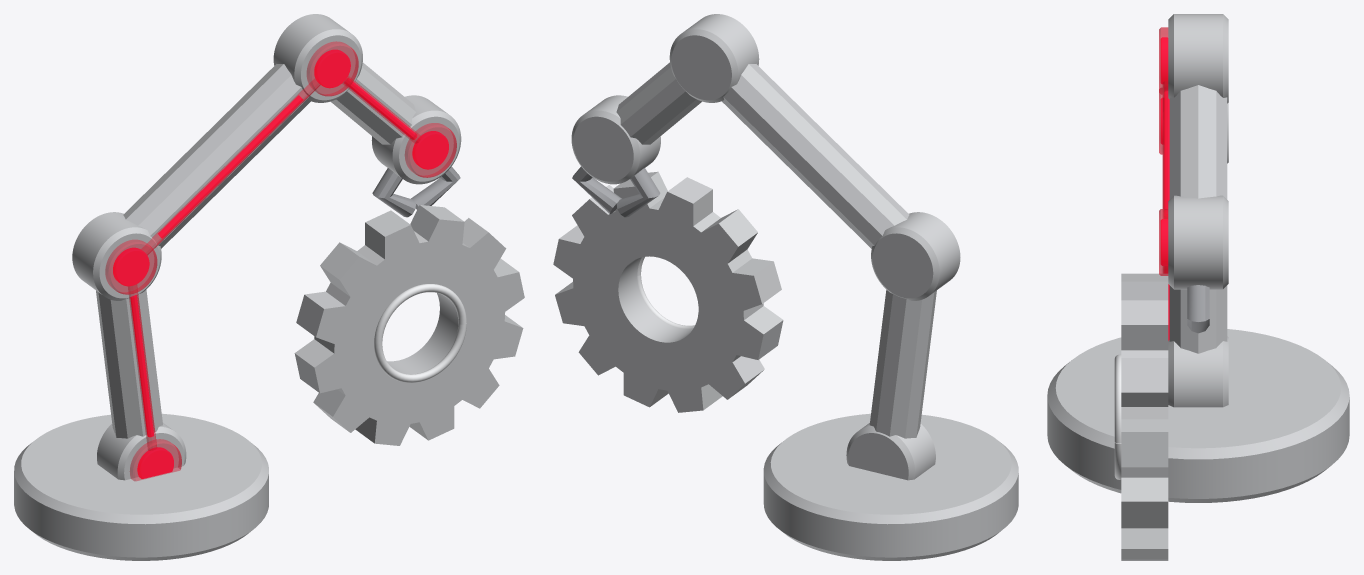
Rendered from 23-automation.glb.
3 views of the same model, side by side, from view 1: azimuth 30°, elevation 25°; view 2: azimuth 150°, elevation 25°; view 3: azimuth 270°, elevation 25° (orthographic). The views are drawn at different scales.
Visible parts, largest first — view 1: BC satin iron, BC ruby optical glass, BC internal ruby light, BC polished iron bevel, BC brushed iron; view 2: BC satin iron, BC brushed iron; view 3: BC satin iron, BC ruby optical glass, BC internal ruby light, BC brushed iron, BC polished iron bevel.
Boxes of the visible parts, left/top/right/bottom form: BC satin iron: left=14, top=14, right=524, bottom=560; BC ruby optical glass: left=105, top=41, right=456, bottom=480; BC internal ruby light: left=113, top=49, right=448, bottom=478; BC polished iron bevel: left=374, top=284, right=466, bottom=382; BC brushed iron: left=372, top=166, right=460, bottom=217; BC satin iron: left=553, top=14, right=1018, bottom=560; BC brushed iron: left=572, top=166, right=660, bottom=217; BC satin iron: left=1047, top=14, right=1349, bottom=560; BC ruby optical glass: left=1159, top=27, right=1169, bottom=340; BC internal ruby light: left=1160, top=37, right=1169, bottom=340; BC brushed iron: left=1187, top=285, right=1209, bottom=333; BC polished iron bevel: left=1114, top=354, right=1121, bottom=479.
Size of the model in its own units: 1.88 by 1.73 by 0.9.
